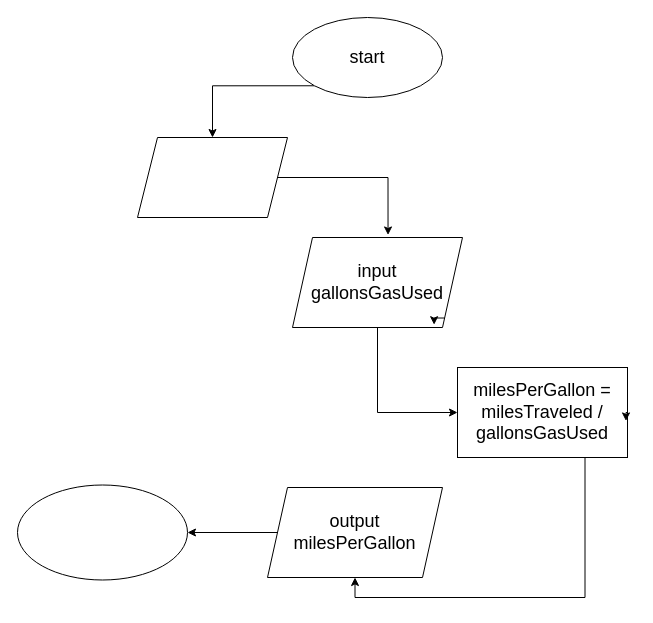
Image size: 653x623. Some labels were removed from this diagram. The box of each missing label's shape, as (x1, y1, x2, y2) in pixels:
input milesTraveled: (136, 136, 288, 218)
stop: (16, 484, 188, 580)
